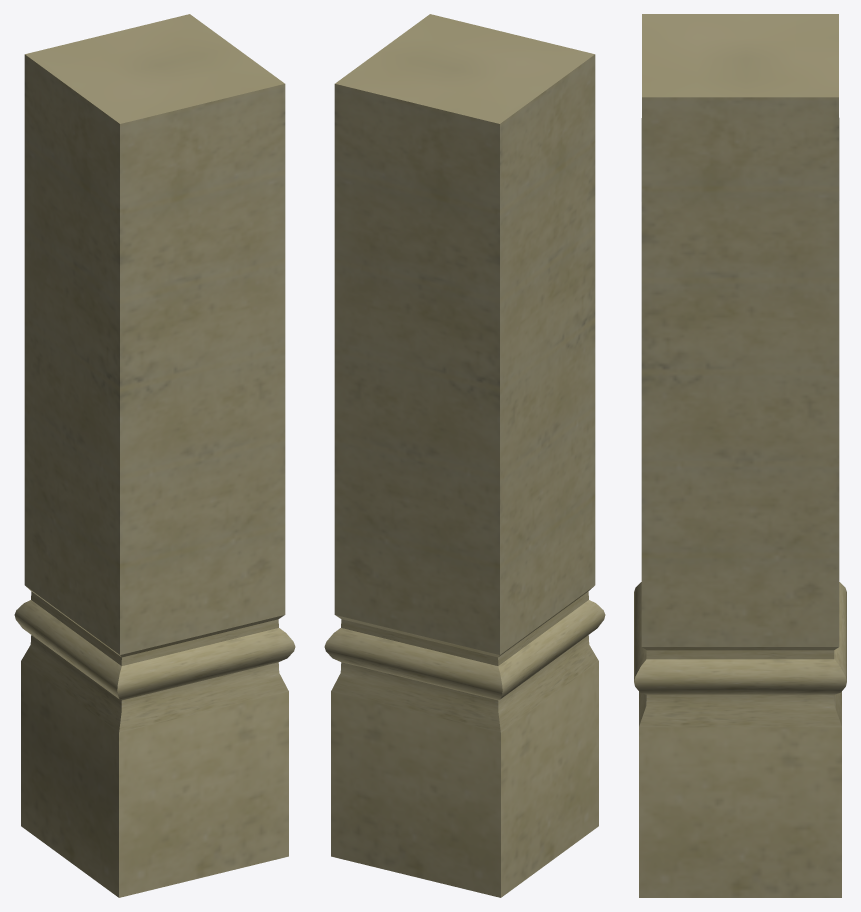
File: trim_column_bottom.glb
The picture shows the model from 3 angles, left to right: view 1: azimuth 30°, elevation 25°; view 2: azimuth 150°, elevation 25°; view 3: azimuth 270°, elevation 25°; orthographic projection. The views are drawn at different scales.
Parts seen in each view (by area): view 1: Trim_Column_Bottom; view 2: Trim_Column_Bottom; view 3: Trim_Column_Bottom.
Boxes of the visible parts, left/top/right/bottom form: Trim_Column_Bottom: left=14, top=14, right=295, bottom=897; Trim_Column_Bottom: left=324, top=14, right=605, bottom=897; Trim_Column_Bottom: left=634, top=14, right=846, bottom=897.
Size of the model in its own units: 0.7242 by 3 by 0.7242.
Materials: 1 (1 with a texture image).
